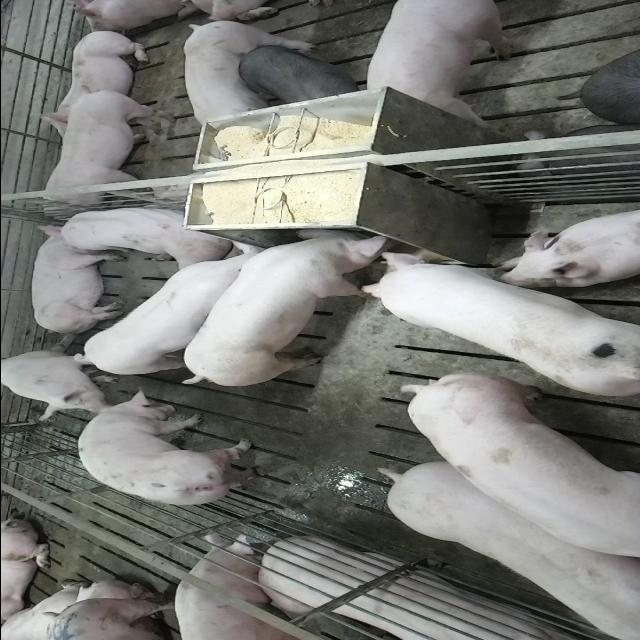Feeding: (358, 241, 634, 397), (172, 222, 394, 384)
Lateral_lying: (248, 539, 619, 640), (28, 225, 128, 335)
Sitting: (1, 348, 120, 418)
Standing: (392, 370, 640, 562), (380, 464, 640, 640), (72, 243, 284, 379), (77, 393, 278, 511), (364, 2, 522, 132), (34, 86, 180, 218), (172, 534, 304, 640), (180, 22, 284, 132), (236, 44, 362, 105)
Sternal_lying: (32, 30, 154, 132), (47, 202, 232, 264), (496, 205, 640, 284)
